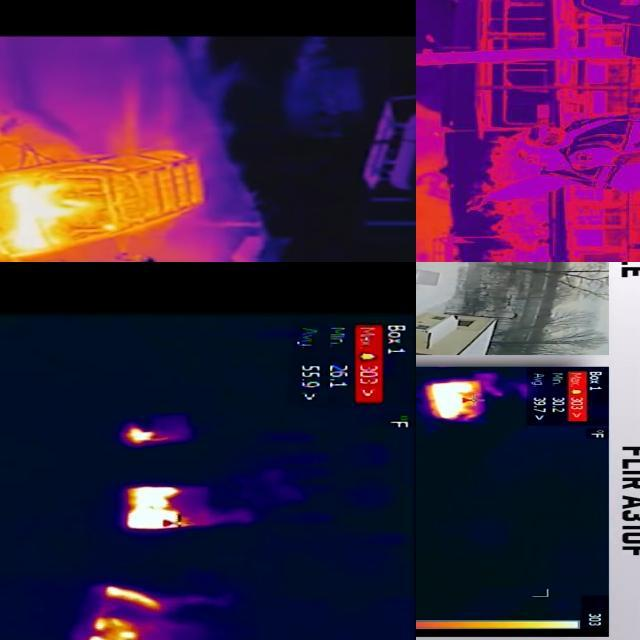fire: (1, 181, 118, 257), (123, 487, 197, 534), (426, 381, 484, 423), (100, 586, 170, 614), (89, 617, 157, 640), (123, 427, 167, 446)
